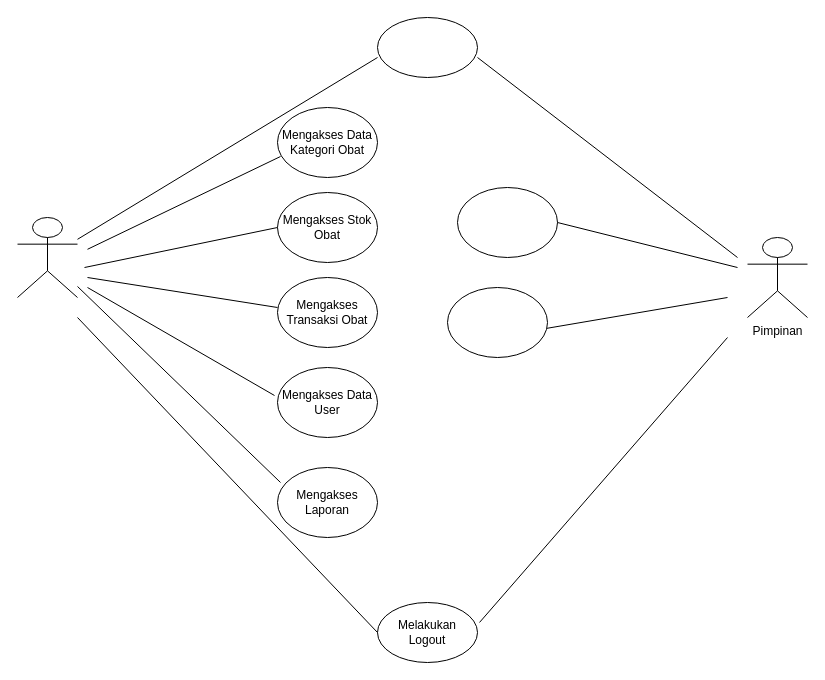
Image size: 825x680. Some labels were removed from this diagram. Here are the shapes that lost their labels. From the top down, the box of each, then its label:
(376, 16, 478, 78): Melakukan Login
(456, 186, 558, 258): Mengakses Data Transaksi Obat
(16, 216, 78, 298): Admin
(446, 286, 548, 358): Mengakses Laporan Transaksi
